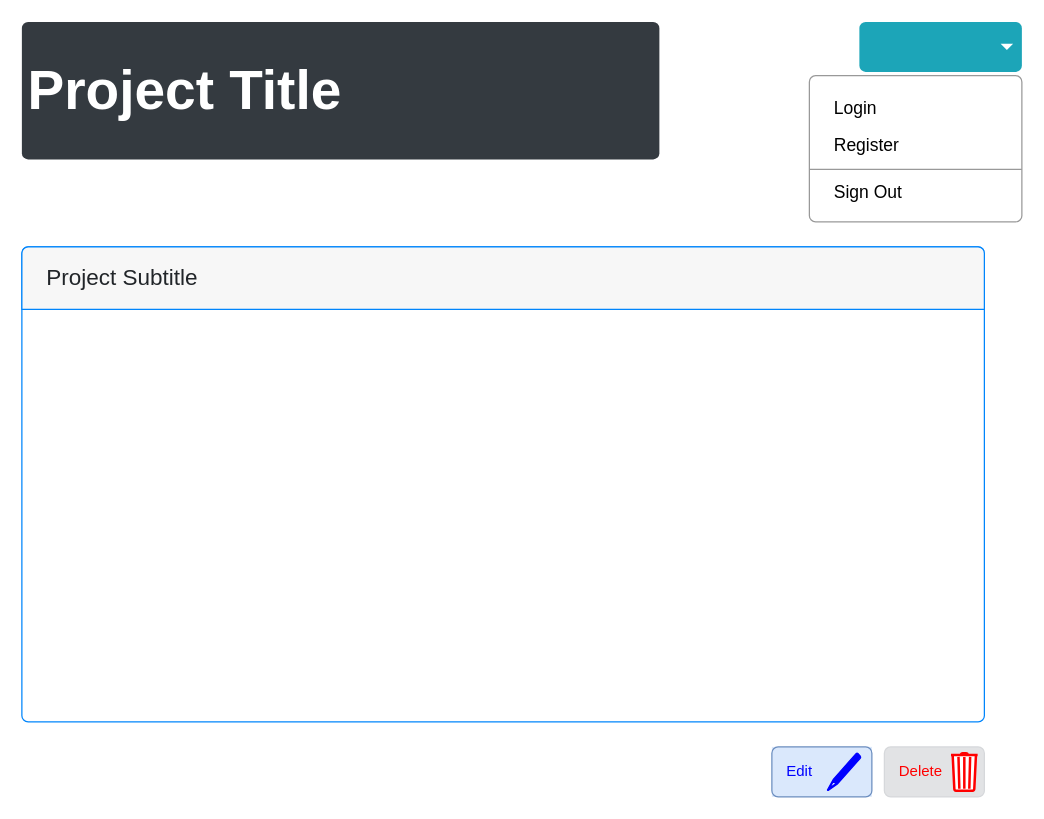
Image size: 1044x819. Some labels were removed from this diagram. The shapes that lost their labels are listed below. From the top down, each one's box as (x1, y1, x2, y2) in pixels, then its label:
(859, 21, 1021, 71): Login / Sign Out
(21, 246, 984, 722): Project Information
